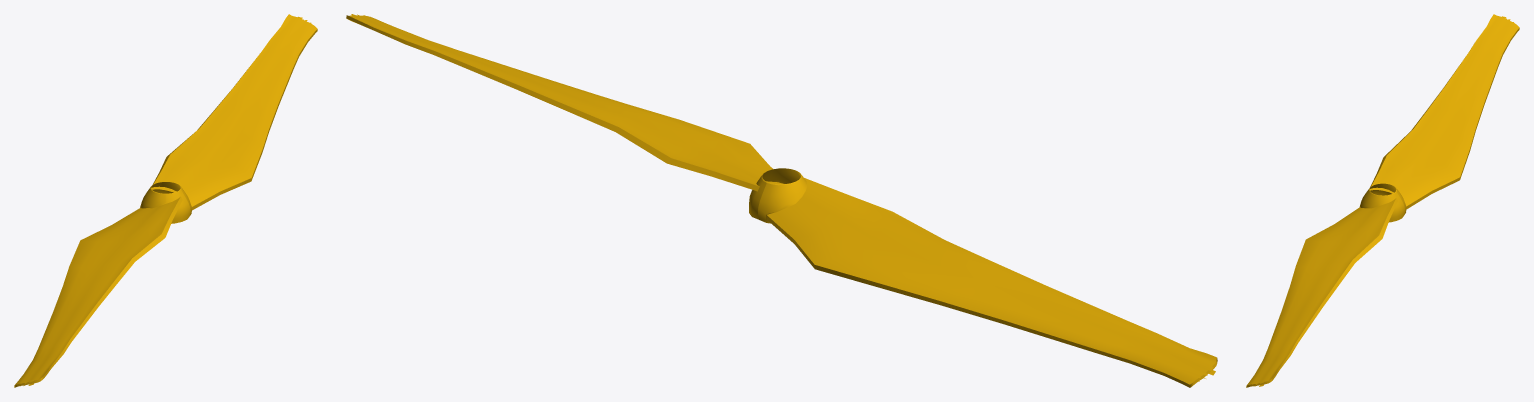
The model's file is propeller_9.fbx.
3 renders of one model, left to right at view 1: azimuth 90°, elevation 25°; view 2: azimuth 150°, elevation 25°; view 3: azimuth 270°, elevation 25°, orthographic. The views are drawn at different scales.
Visible parts, largest first — view 1: polySurface17; view 2: polySurface17; view 3: polySurface17.
Part boxes in pixels (<box>): polySurface17: <box>14,14,317,387</box>; polySurface17: <box>346,14,1217,387</box>; polySurface17: <box>1246,14,1519,387</box>.
Bounding box in the file's own units: 17.81 × 0.746 × 5.89.
